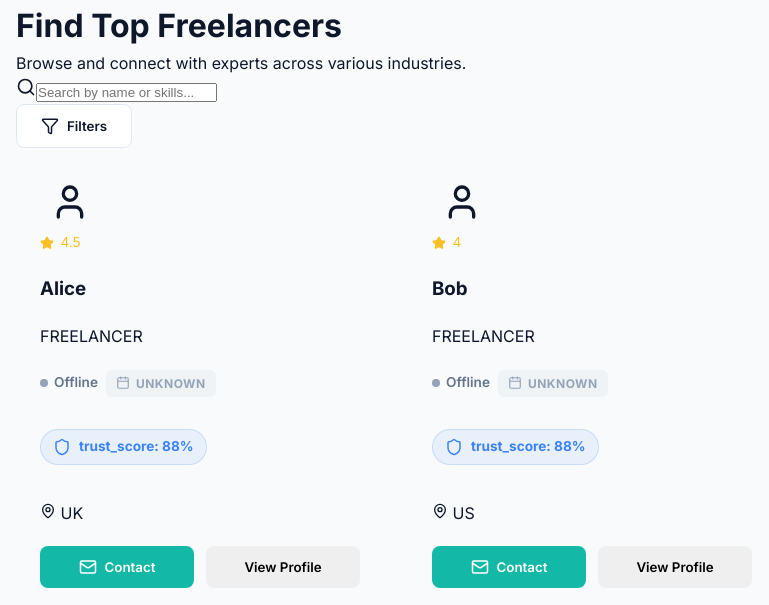
Test case: Freelancers Component › renders freelancers list and handles search
Expected: the heading "Alice" is shown, [40,277,86,300]
Expected: the heading "Bob" is shown, [432,277,468,300]
Type "Alice" into the field with placeholder "Search by name or skills..." at point(126, 92), box [36,83,217,102]
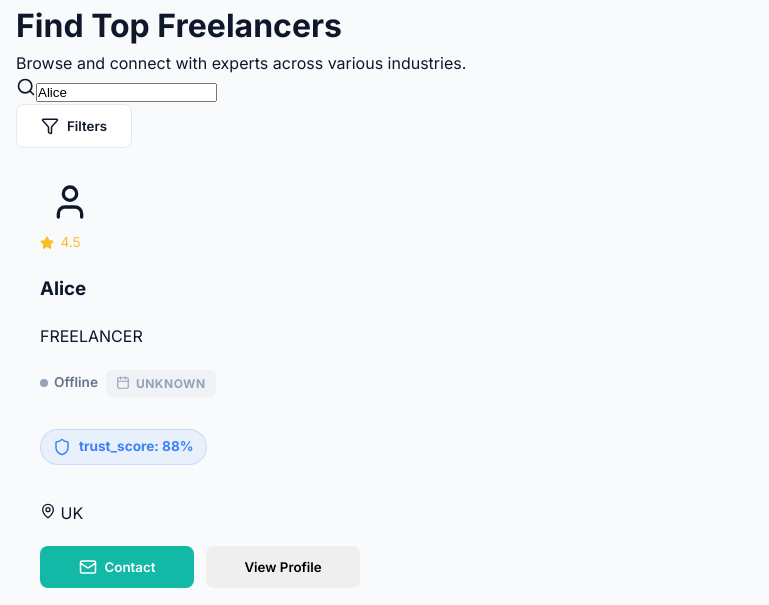
Expected: the heading "Alice" is shown, [40,277,86,300]
Now the heading "Bob" is gone
